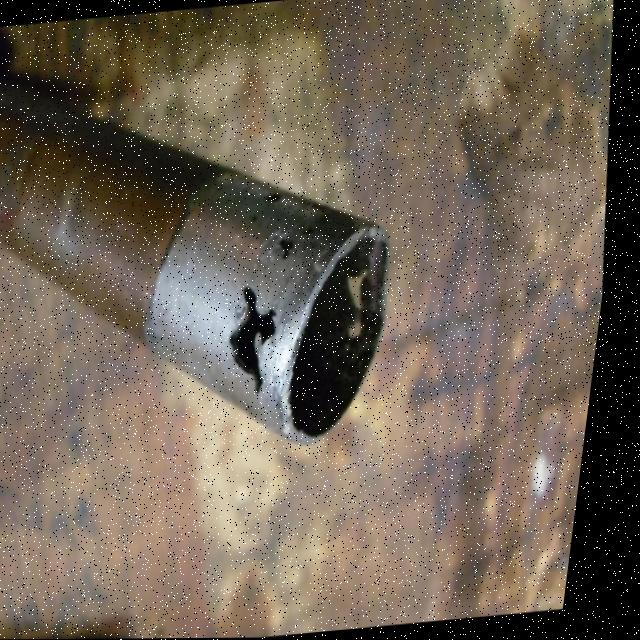hole: (232, 276, 302, 401), (343, 267, 388, 354)
